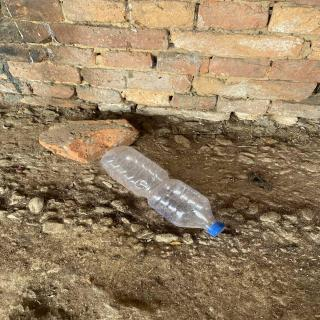Plastic-bottle: (100, 145, 229, 242)
